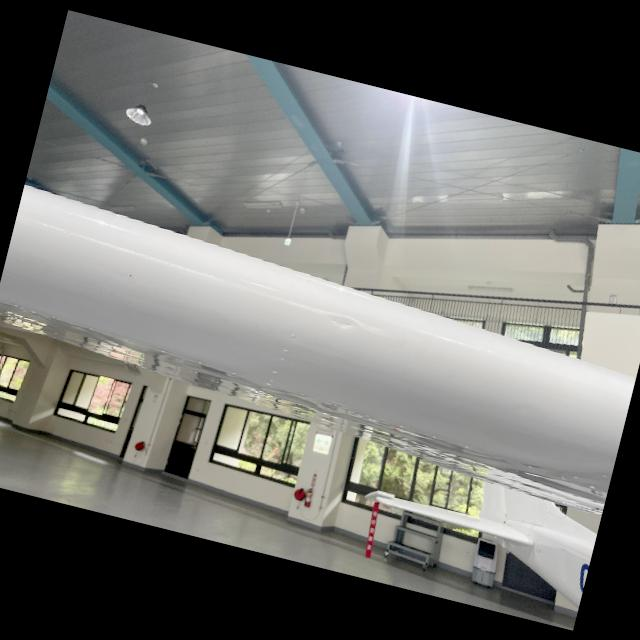dent: (313, 303, 379, 342)
